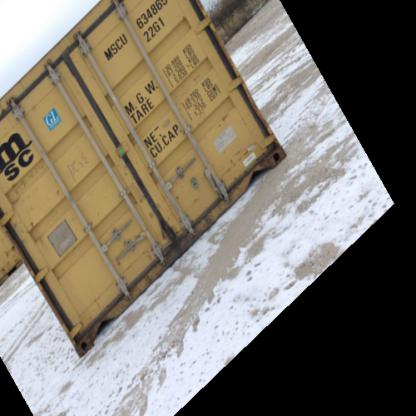Damage: (148, 208, 183, 249), (8, 163, 50, 192), (60, 146, 96, 179), (24, 216, 53, 250), (68, 311, 94, 346), (222, 141, 252, 171), (206, 103, 236, 129), (119, 118, 142, 147)
